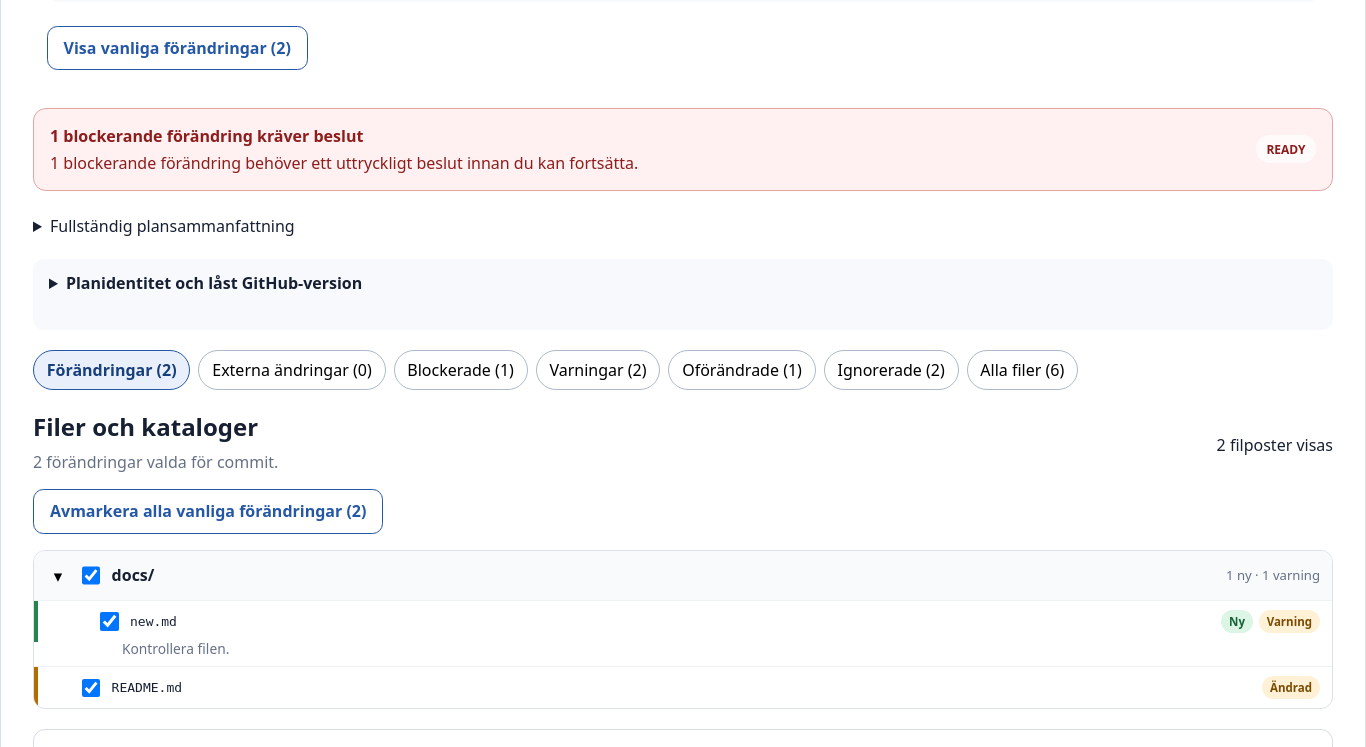
Scenario: ImportReviewPage › presents gitignored ZIP files as informational warnings and keeps filters as the only buttons
(page scrolled)
Click the button "Ignorerade (2)" at point(891, 370), box left=824, top=350, right=958, bottom=390
(page scrolled)
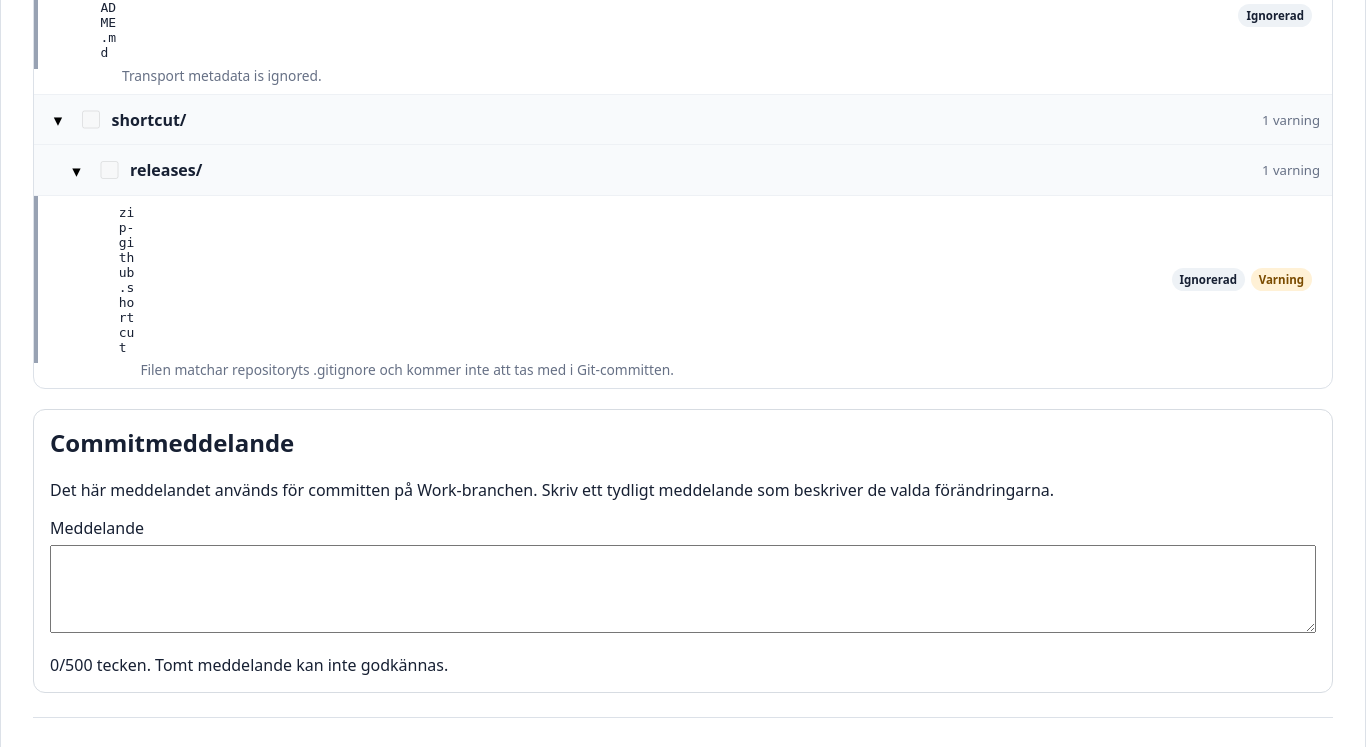
Now the text titled "shortcut/releases/zip-github.shortcut" is shown, box left=119, top=205, right=134, bottom=355
Now the text "matchar repositoryts .gitignore" is shown, box left=140, top=360, right=674, bottom=379
